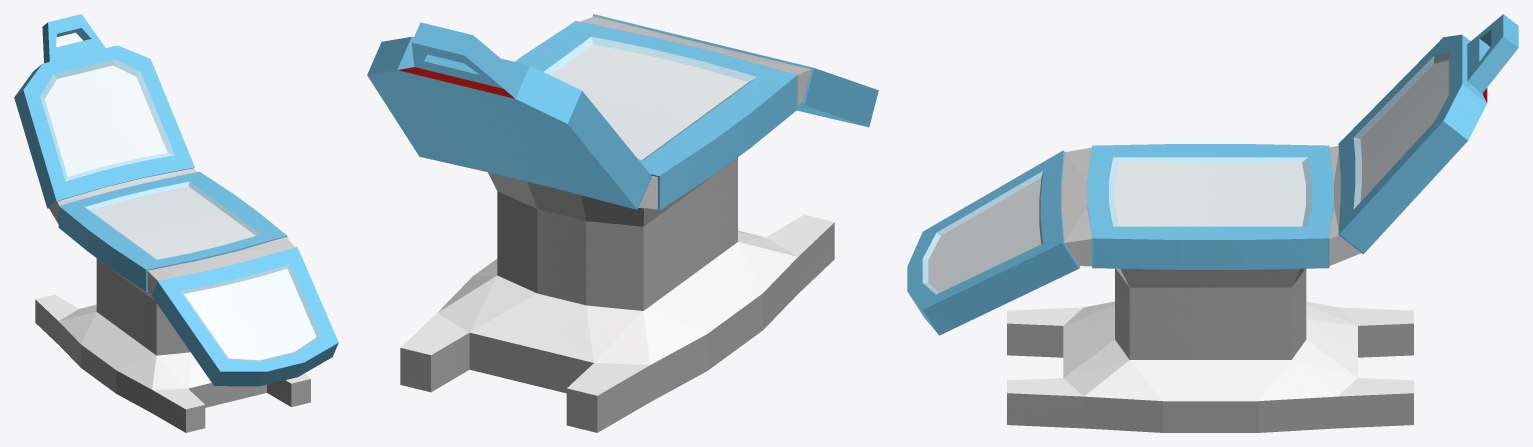
File: bed_1.dae
3 renders of one model, left to right at view 1: azimuth 30°, elevation 25°; view 2: azimuth 150°, elevation 25°; view 3: azimuth 270°, elevation 25°, orthographic. The views are drawn at different scales.
Visible parts, largest first — view 1: bed_1; view 2: bed_1; view 3: bed_1.
Part boxes in pixels (<box>): bed_1: <box>14,14,338,432</box>; bed_1: <box>367,14,878,432</box>; bed_1: <box>907,14,1518,432</box>.
Size of the model in its own units: 0.5363 by 1.41 by 0.9121.
